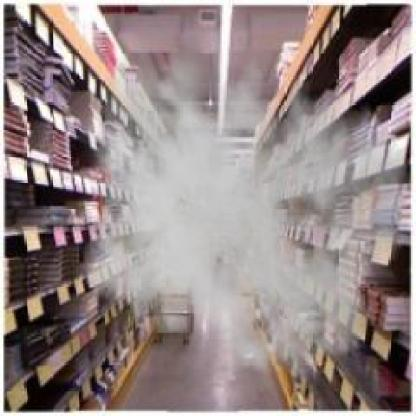Smoke: (73, 33, 414, 386)
